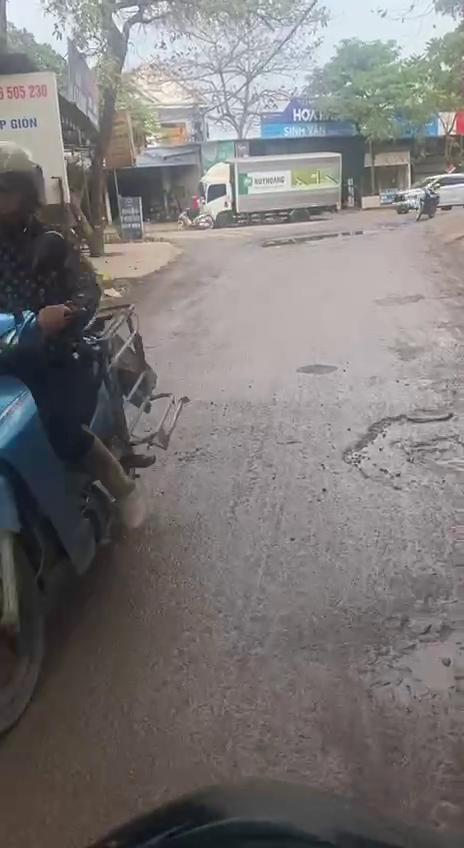pothole: (341, 414, 464, 502), (385, 622, 464, 697)
